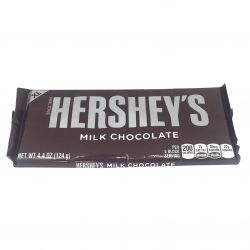hershey: (6, 82, 243, 166)
